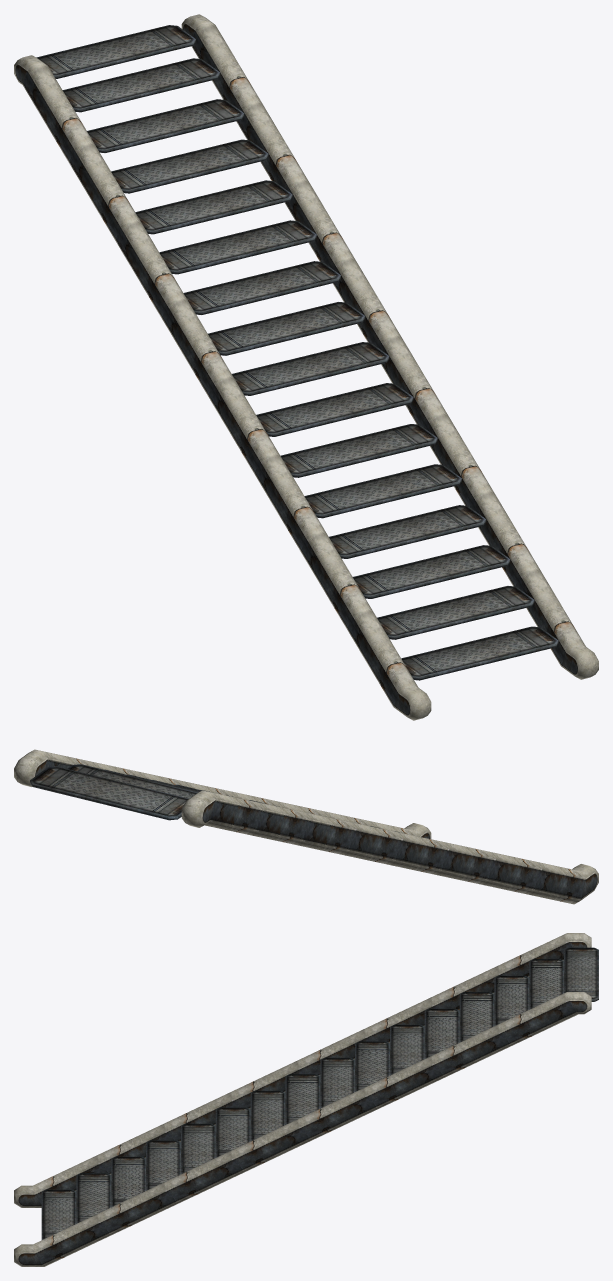
The model's file is metal_datasite_straight_white.dae.
3 views of the same model, one above another, from view 1: azimuth 30°, elevation 25°; view 2: azimuth 150°, elevation 25°; view 3: azimuth 270°, elevation 25° (orthographic). The views are drawn at different scales.
Parts seen in each view (by area): view 1: polySurface139; view 2: polySurface139; view 3: polySurface139.
Part boxes in pixels (x1,y1,x2,y2): polySurface139: [14, 14, 598, 720]; polySurface139: [14, 749, 598, 904]; polySurface139: [14, 933, 598, 1266].
Size of the model in its own units: 2.24 by 4.3 by 8.4.
Materials: 1 (1 with a texture image).
